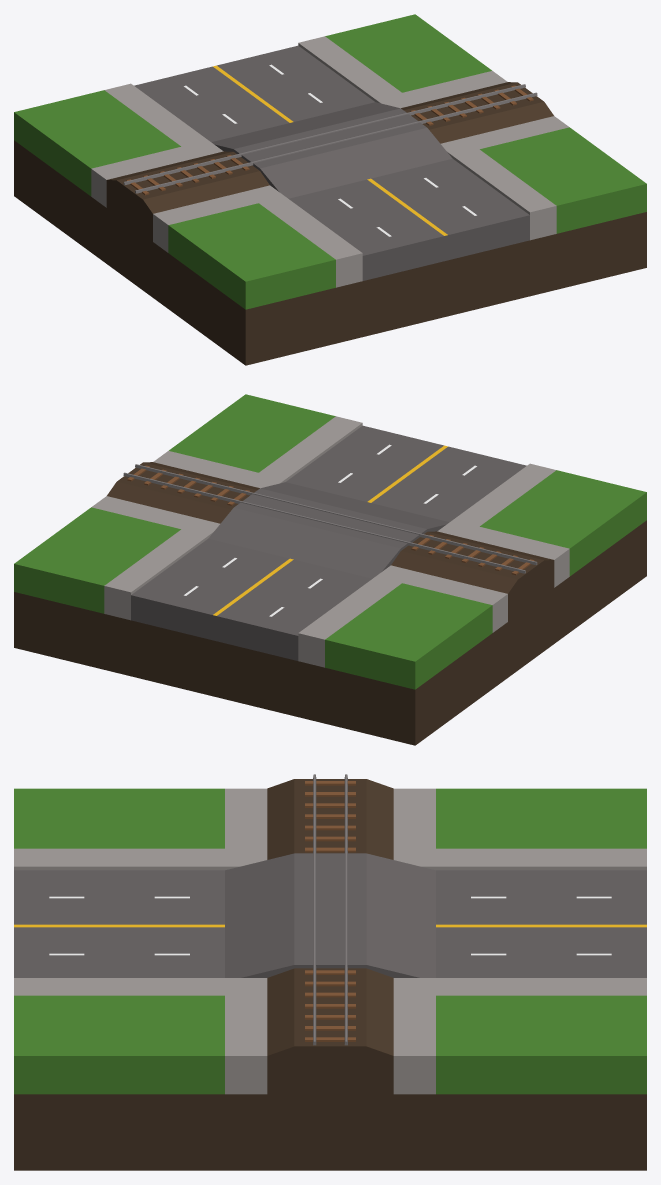
File: tile-rail-mainroad-crossing.fbx
The picture shows the model from 3 angles, top to bottom: view 1: azimuth 30°, elevation 25°; view 2: azimuth 150°, elevation 25°; view 3: azimuth 270°, elevation 25°; orthographic projection. The views are drawn at different scales.
Parts seen in each view (by area): view 1: tile-rail-mainroad-crossing; view 2: tile-rail-mainroad-crossing; view 3: tile-rail-mainroad-crossing.
Part boxes in pixels (x1=…): tile-rail-mainroad-crossing: x1=14, y1=14, x2=646, y2=365; tile-rail-mainroad-crossing: x1=14, y1=394, x2=646, y2=745; tile-rail-mainroad-crossing: x1=14, y1=774, x2=646, y2=1170.
Bounding box in the file's own units: 30 × 6.75 × 30.
